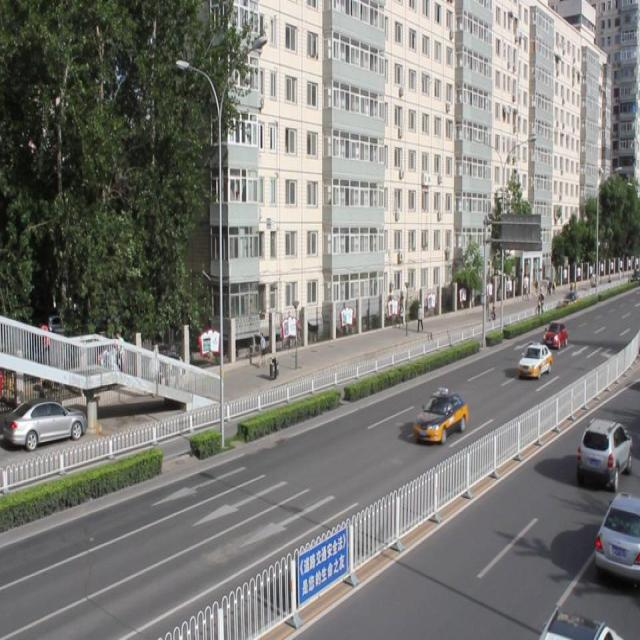car: (592, 491, 640, 578), (575, 416, 629, 486), (412, 389, 466, 445), (538, 608, 618, 640), (515, 341, 551, 377), (540, 317, 566, 348)
